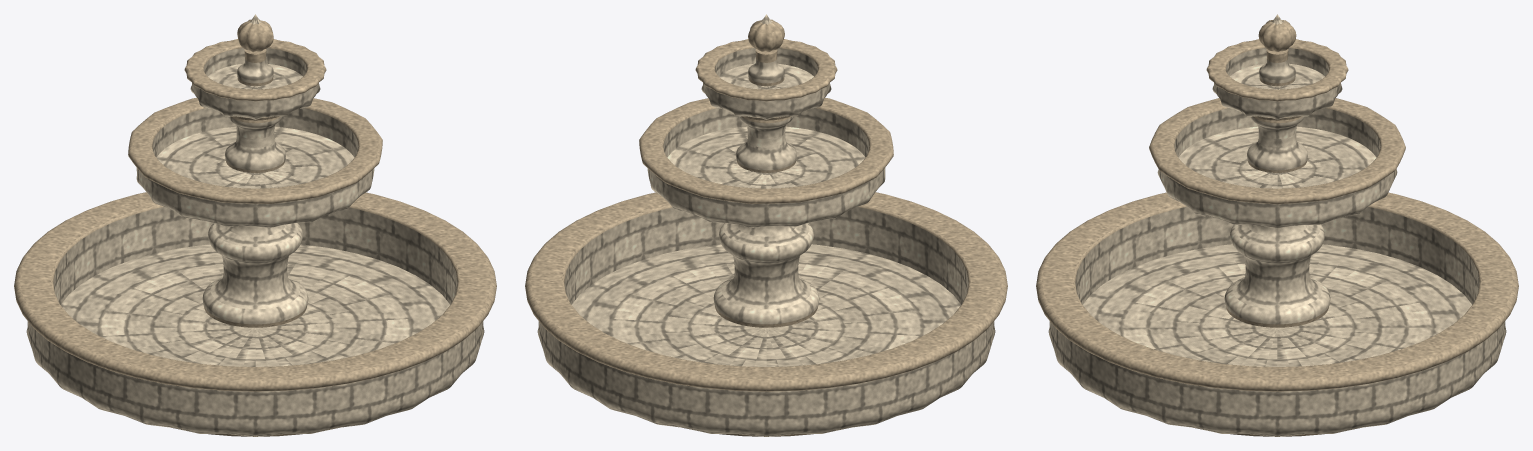
File: Fountain.fbx
The picture shows the model from 3 angles, left to right: view 1: azimuth 30°, elevation 25°; view 2: azimuth 150°, elevation 25°; view 3: azimuth 270°, elevation 25°; orthographic projection.
Parts seen in each view (by area): view 1: Lobby_FountainMesh, Lobby_FountainTrim; view 2: Lobby_FountainMesh, Lobby_FountainTrim; view 3: Lobby_FountainMesh, Lobby_FountainTrim.
Part boxes in pixels (x1,y1,x2,y2): Lobby_FountainMesh: (26,14,484,436); Lobby_FountainTrim: (14,19,496,436); Lobby_FountainMesh: (537,14,995,436); Lobby_FountainTrim: (525,19,1007,436); Lobby_FountainMesh: (1048,14,1506,436); Lobby_FountainTrim: (1036,20,1518,436).
Bounding box in the file's own units: 24.36 × 19.45 × 24.36.
2 materials, 2 textured.
